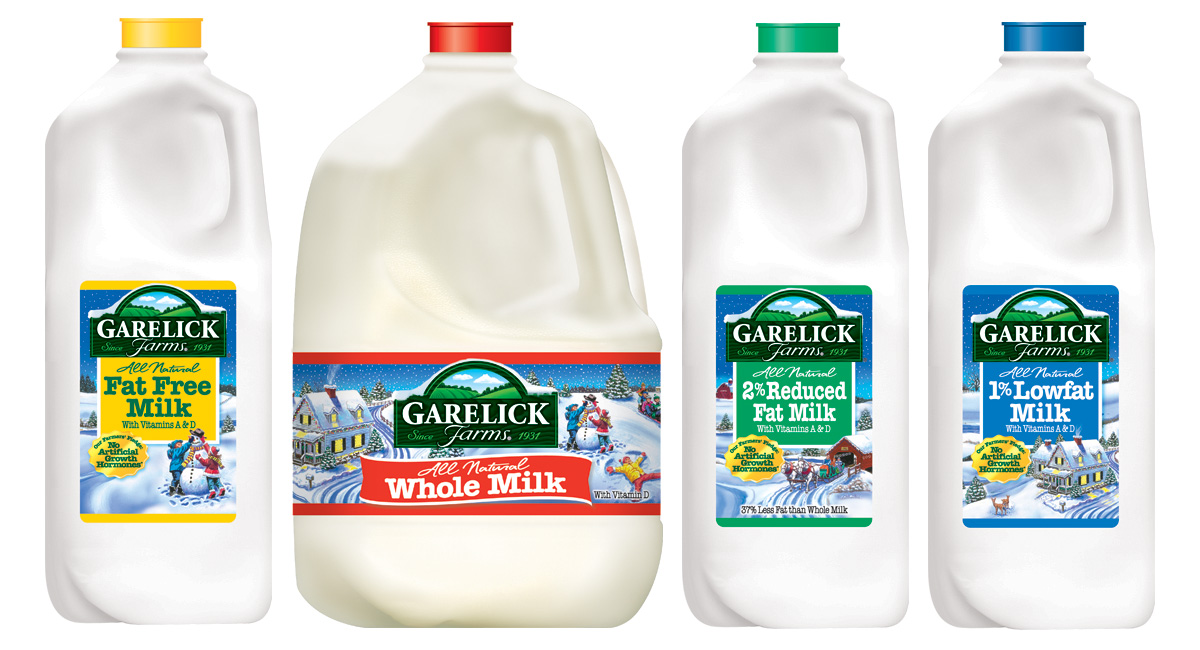milk: (310, 22, 656, 624), (49, 19, 278, 630), (686, 21, 913, 633), (931, 24, 1156, 625)
